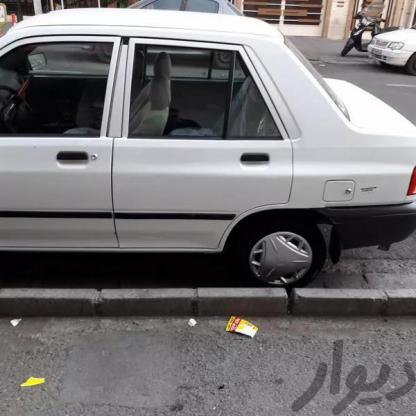Car: (0, 1, 406, 305), (351, 27, 416, 84)
